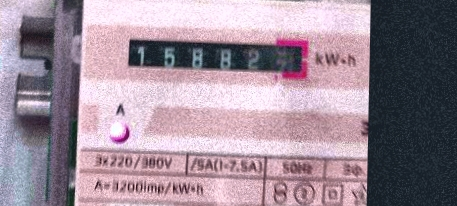1: (134, 43, 148, 65)
2: (245, 47, 261, 71)
5: (162, 43, 176, 69)
7: (275, 55, 287, 72)
8: (218, 46, 232, 71), (190, 46, 203, 69)
screen: (119, 29, 317, 87)
